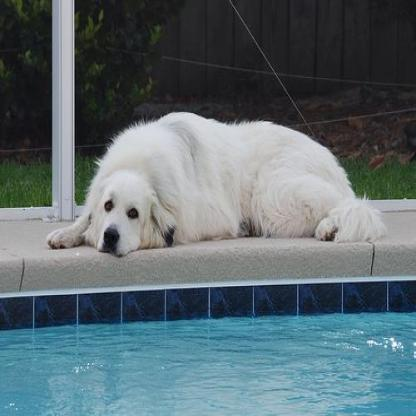Great_Pyrenees: (45, 110, 383, 254)
